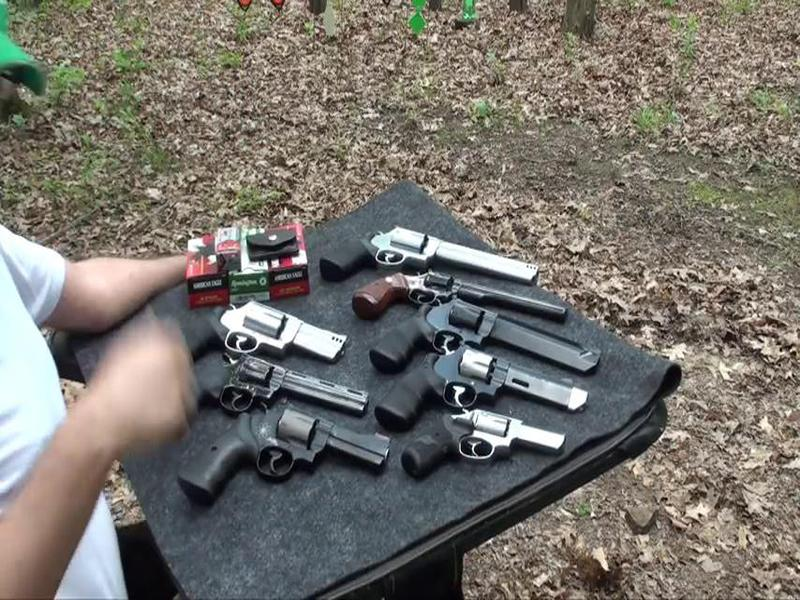Revolver: (367, 291, 600, 386)
